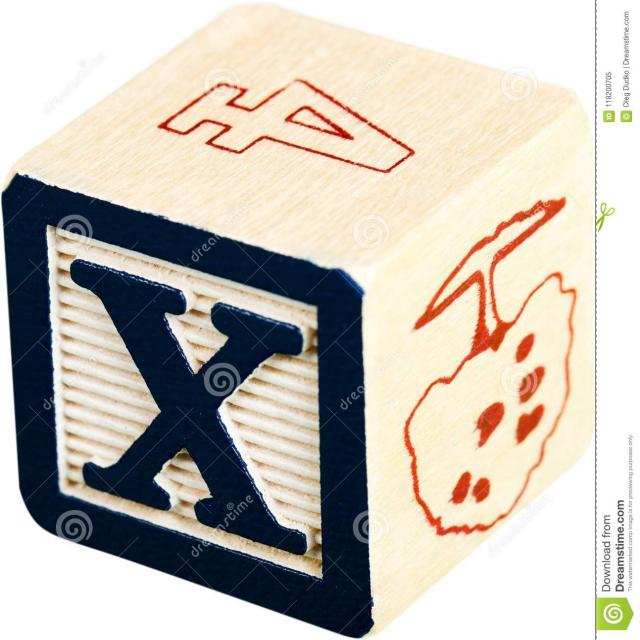X: (61, 244, 316, 569)
